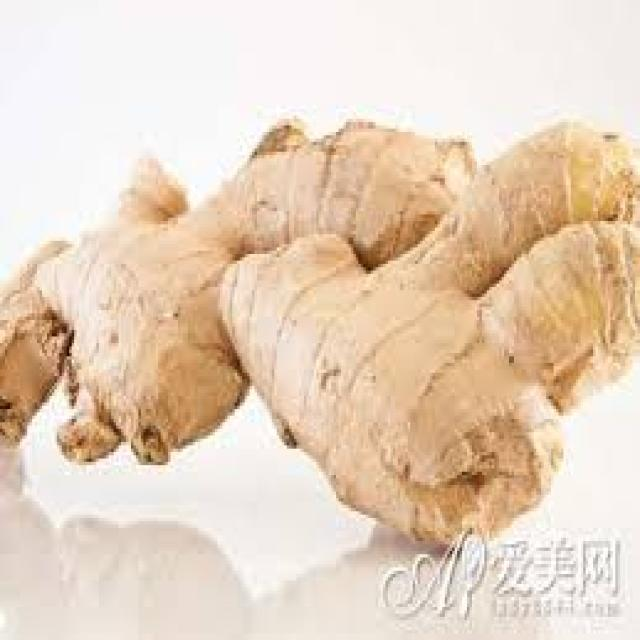food_waste: (0, 122, 638, 538)
